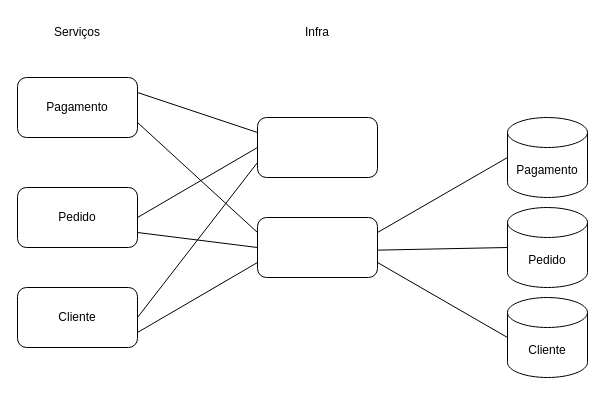
Some shapes in this 605 by 395 pixel diagram are drawn without their labels. Each missing label, with the box of its shape:
Postgres: (256, 216, 378, 278)
RabbitMq: (256, 116, 378, 178)
